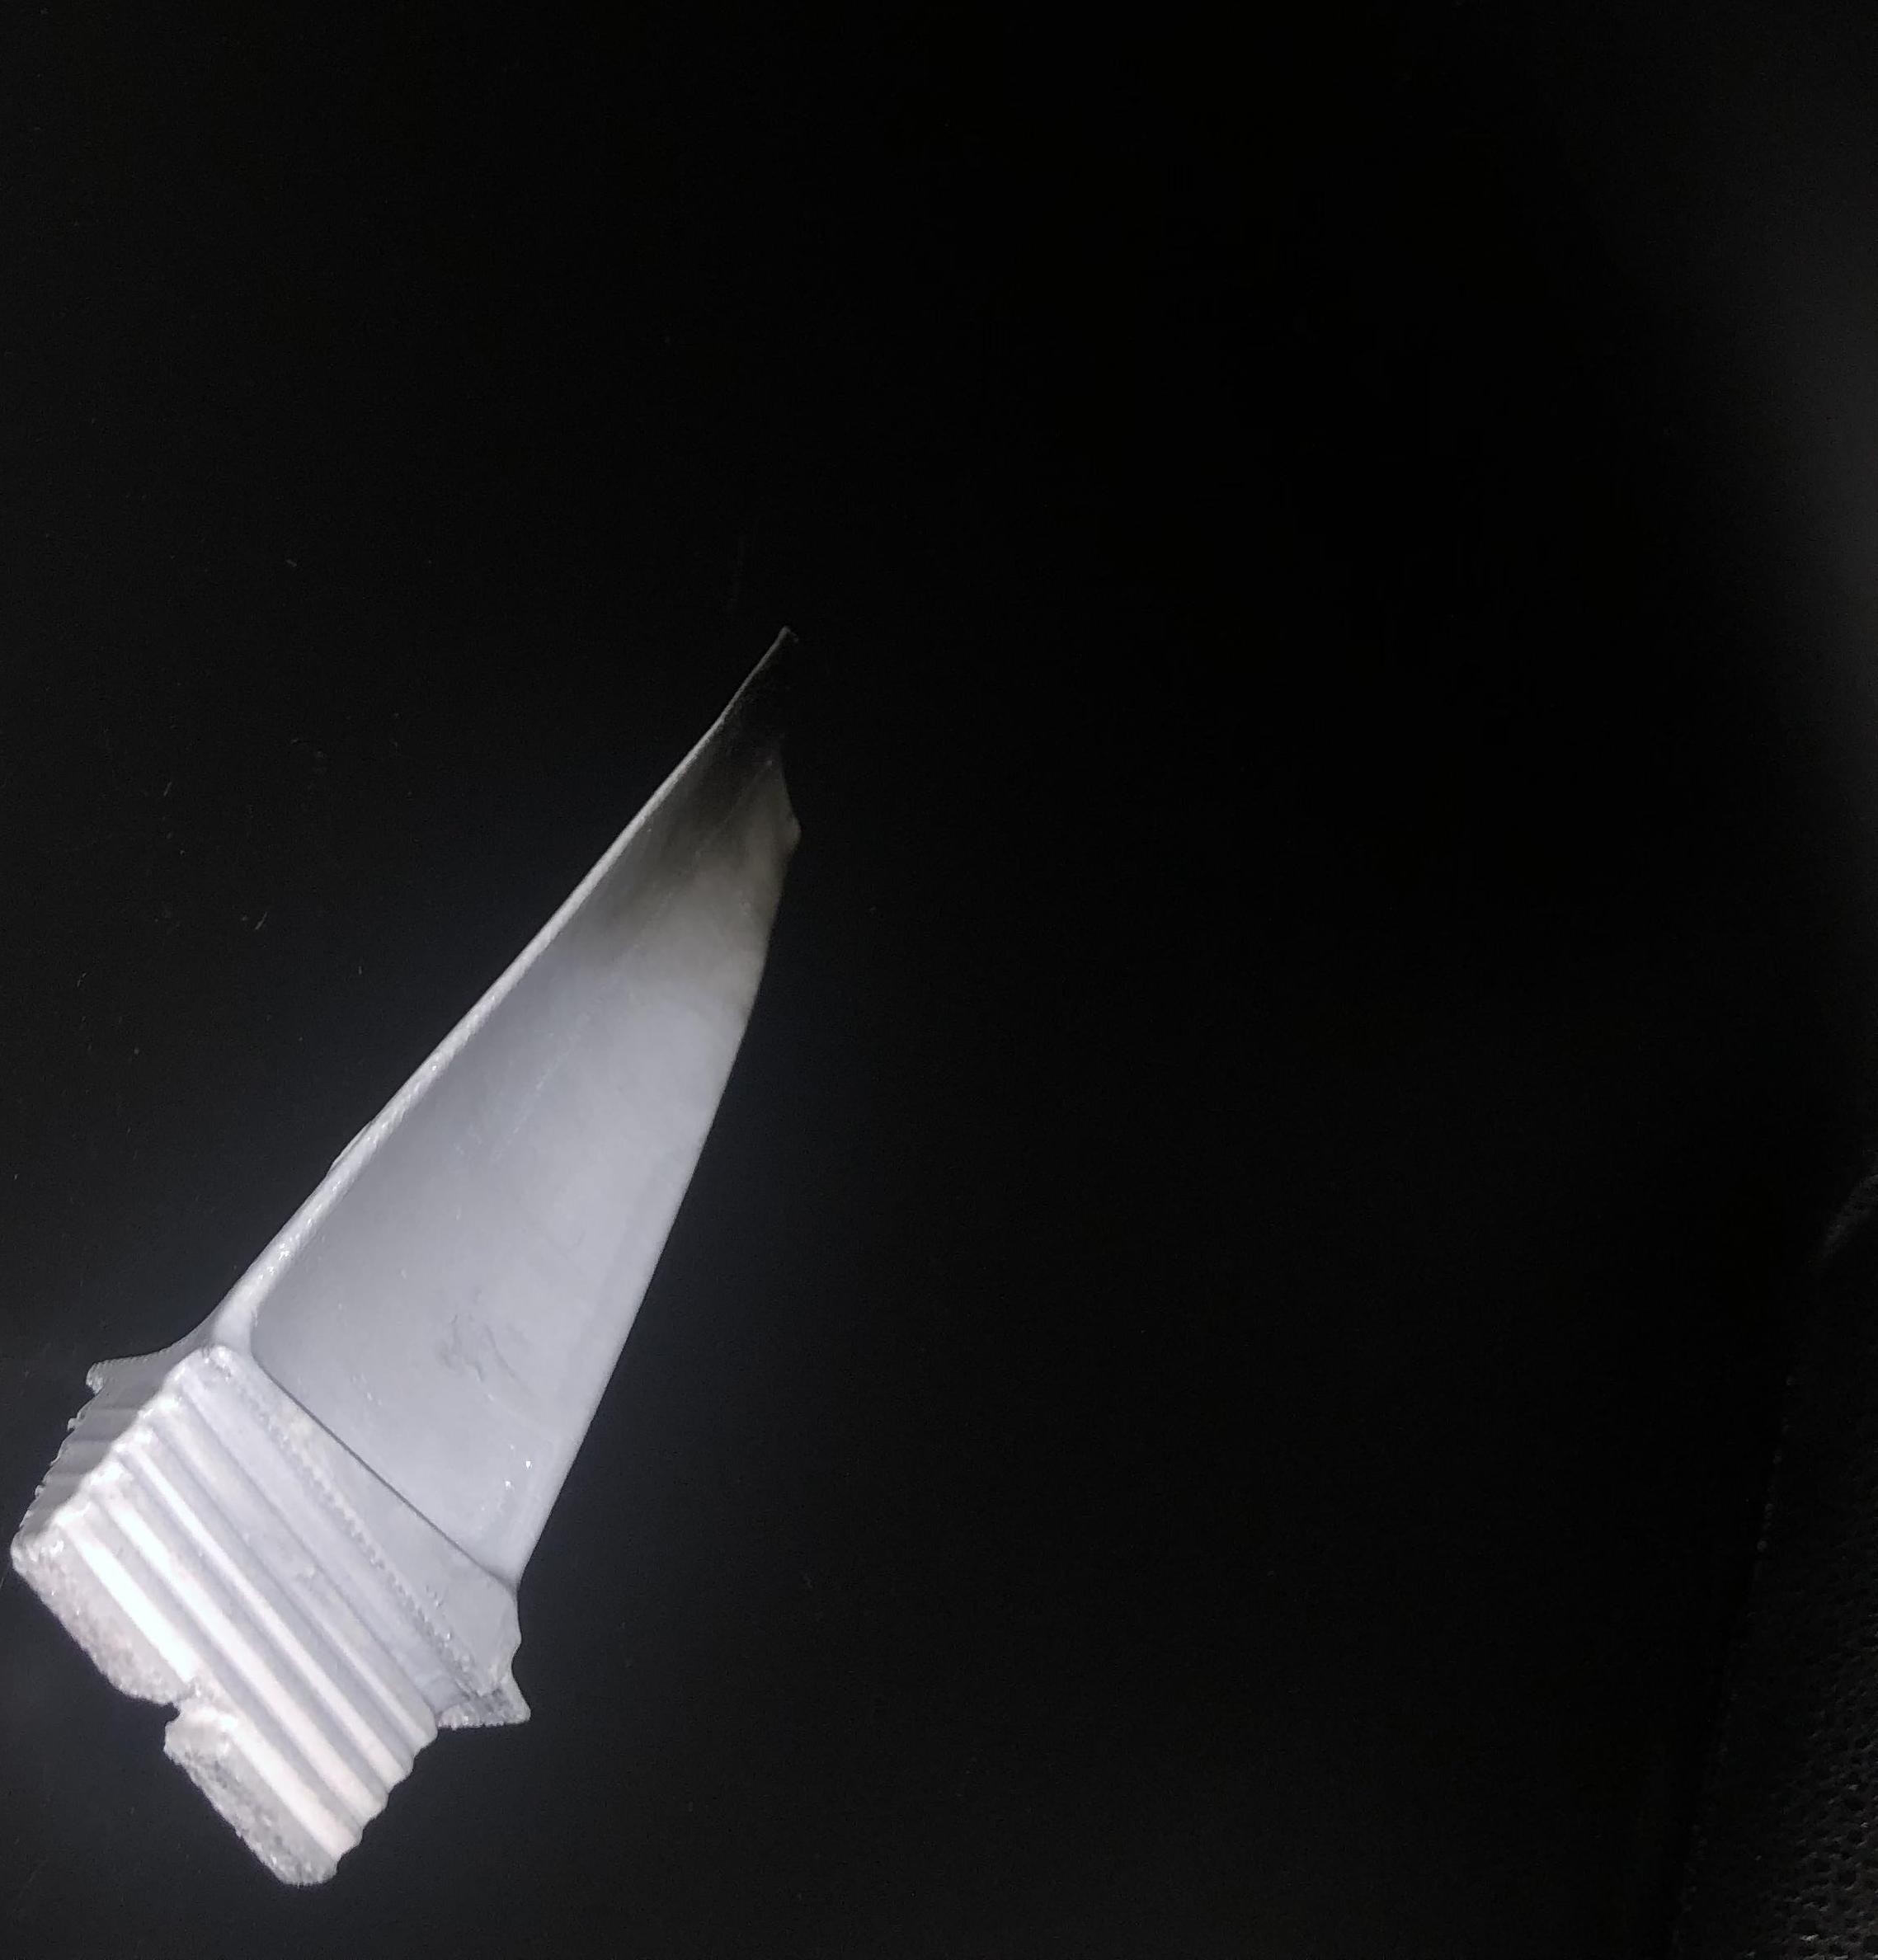ablation: (702, 672, 784, 936)
